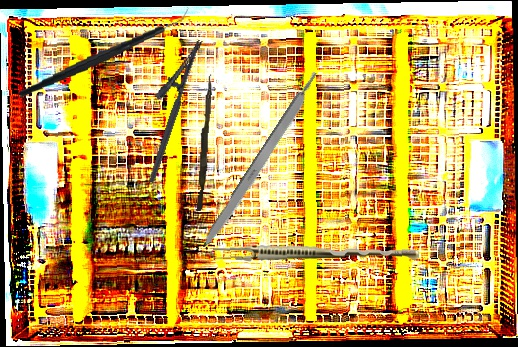Chopper: (12, 3, 196, 100)
Needle Holder: (128, 32, 204, 184)
Pusher: (196, 73, 213, 212)
Scalpel Handle: (199, 70, 324, 252)
Tissue Forceps: (212, 242, 420, 264)
